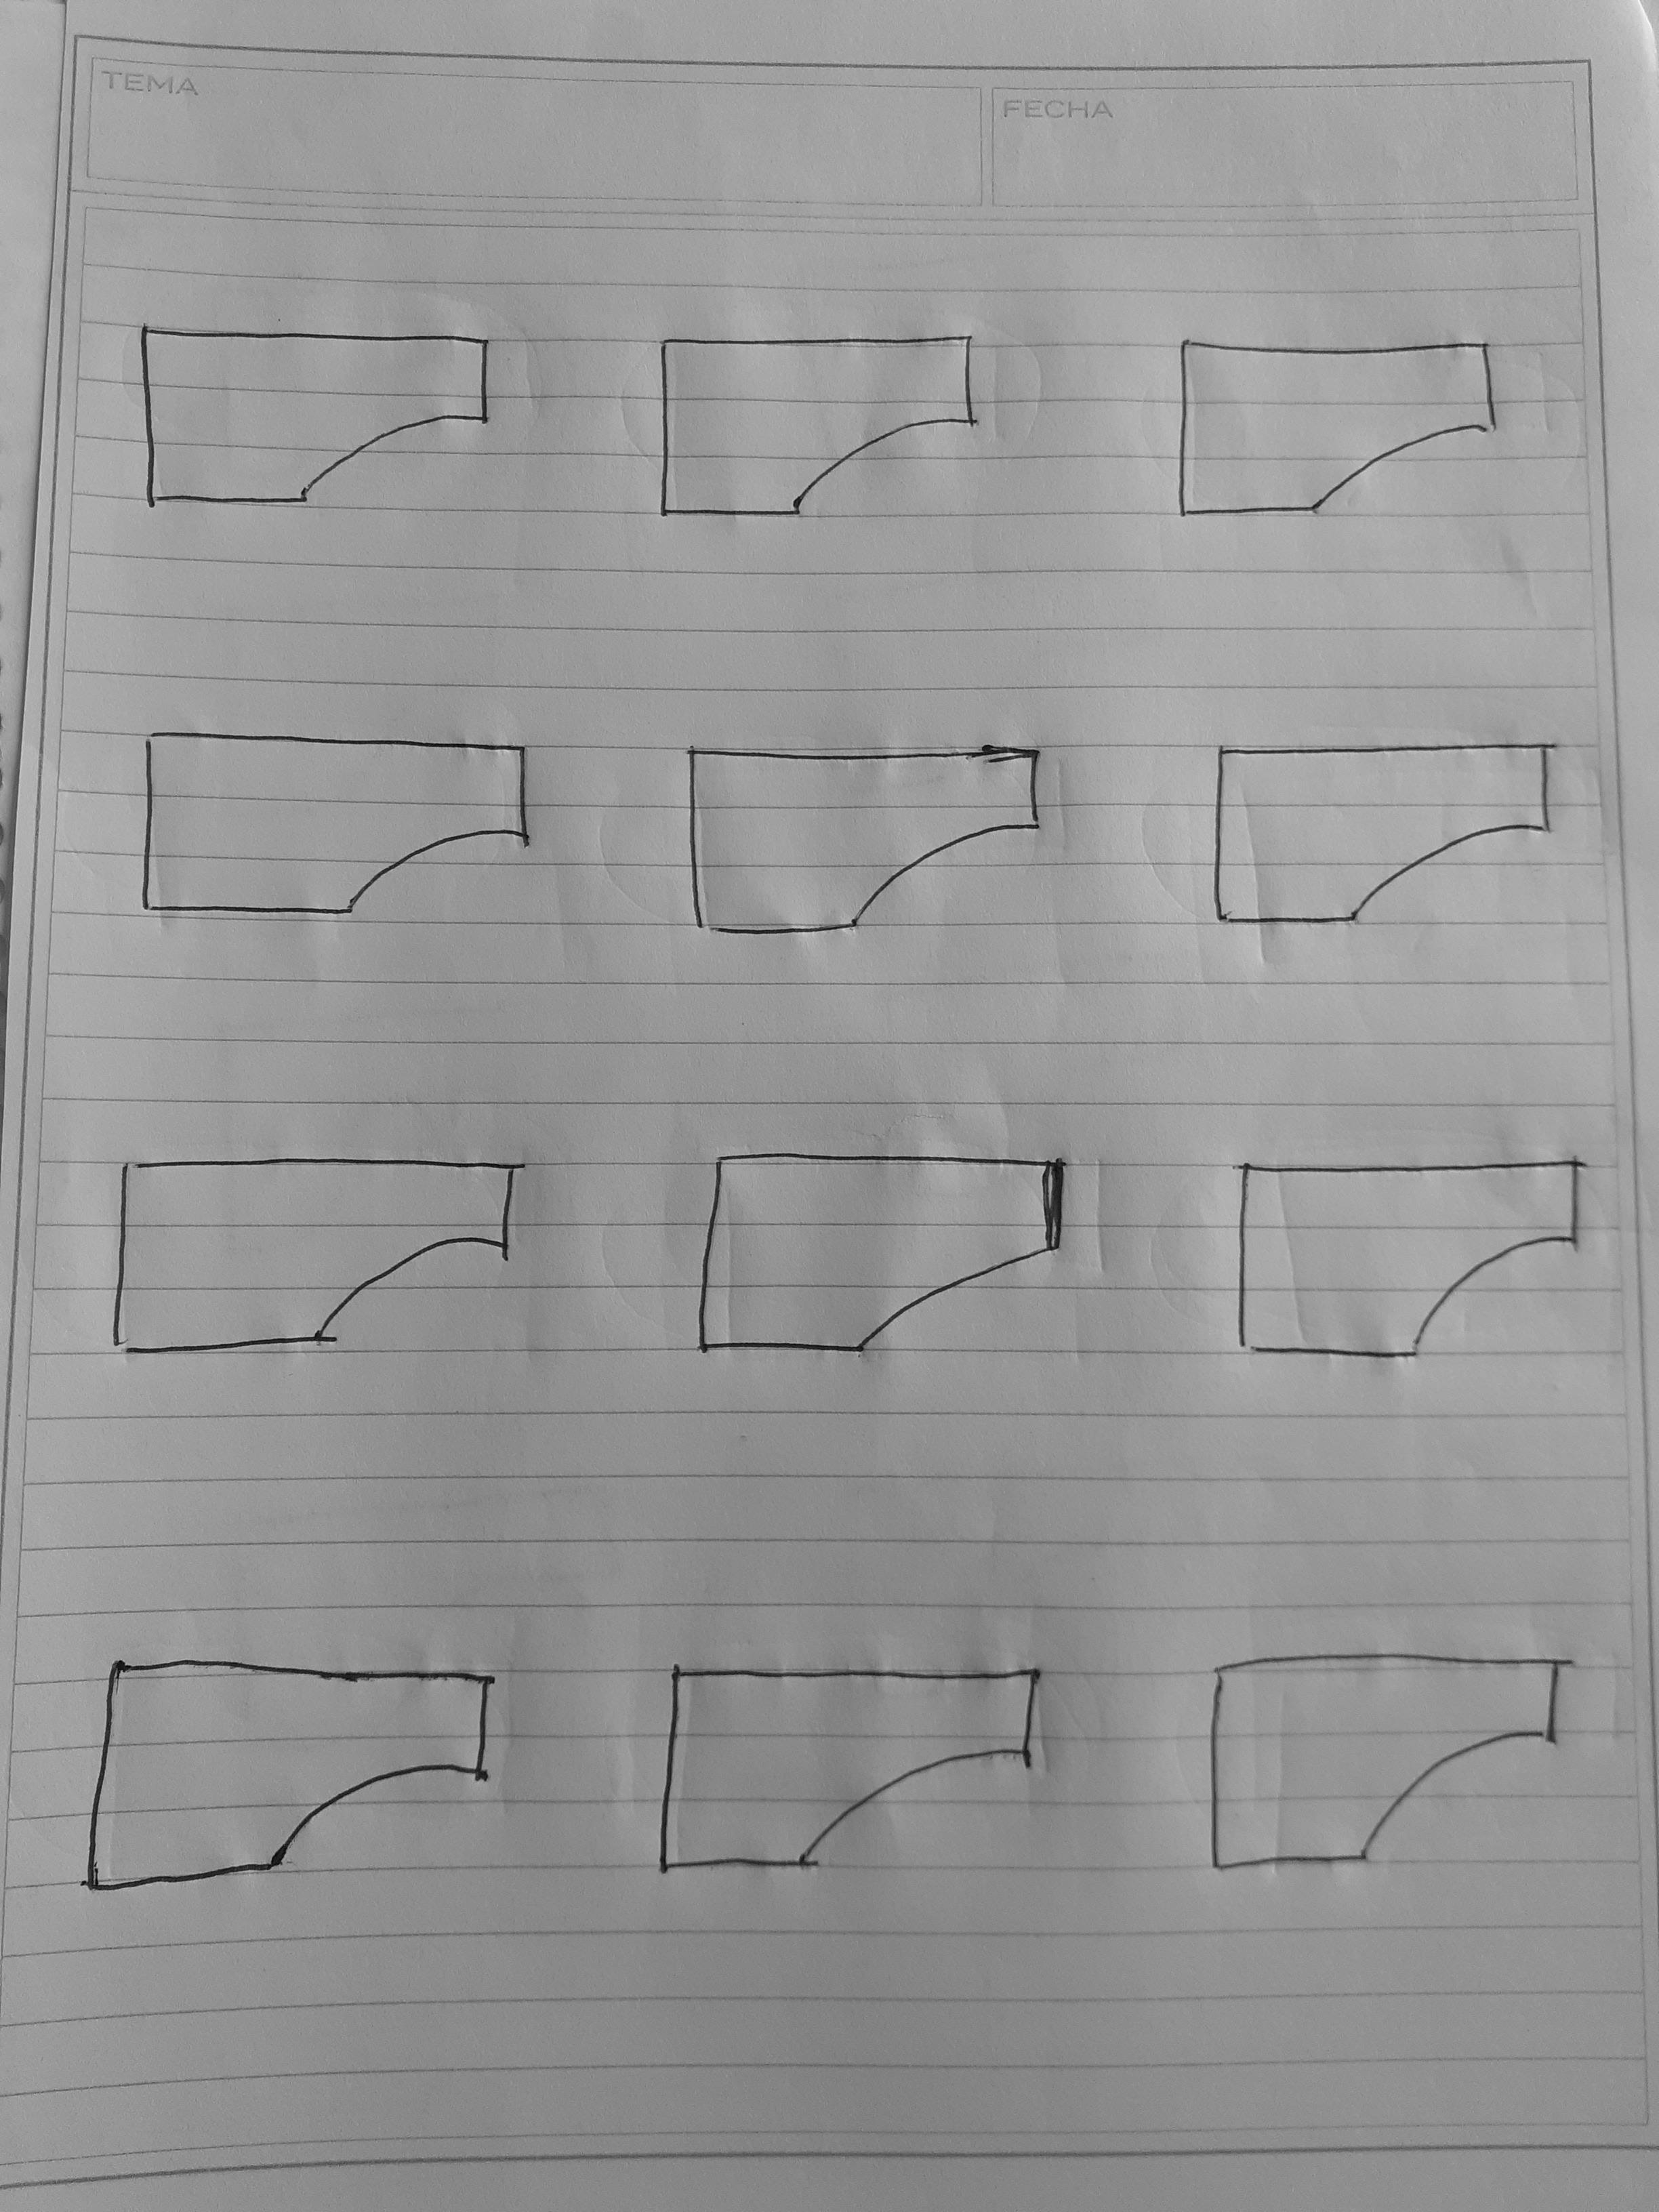print: (610, 1618, 1086, 1952), (89, 1120, 584, 1418), (1176, 1601, 1596, 1940), (68, 1618, 516, 1930), (659, 1106, 1089, 1421), (1208, 1103, 1621, 1421), (631, 700, 1108, 963), (1190, 679, 1577, 970), (122, 702, 545, 953), (122, 286, 512, 540), (1154, 296, 1528, 543), (638, 310, 1037, 523)
